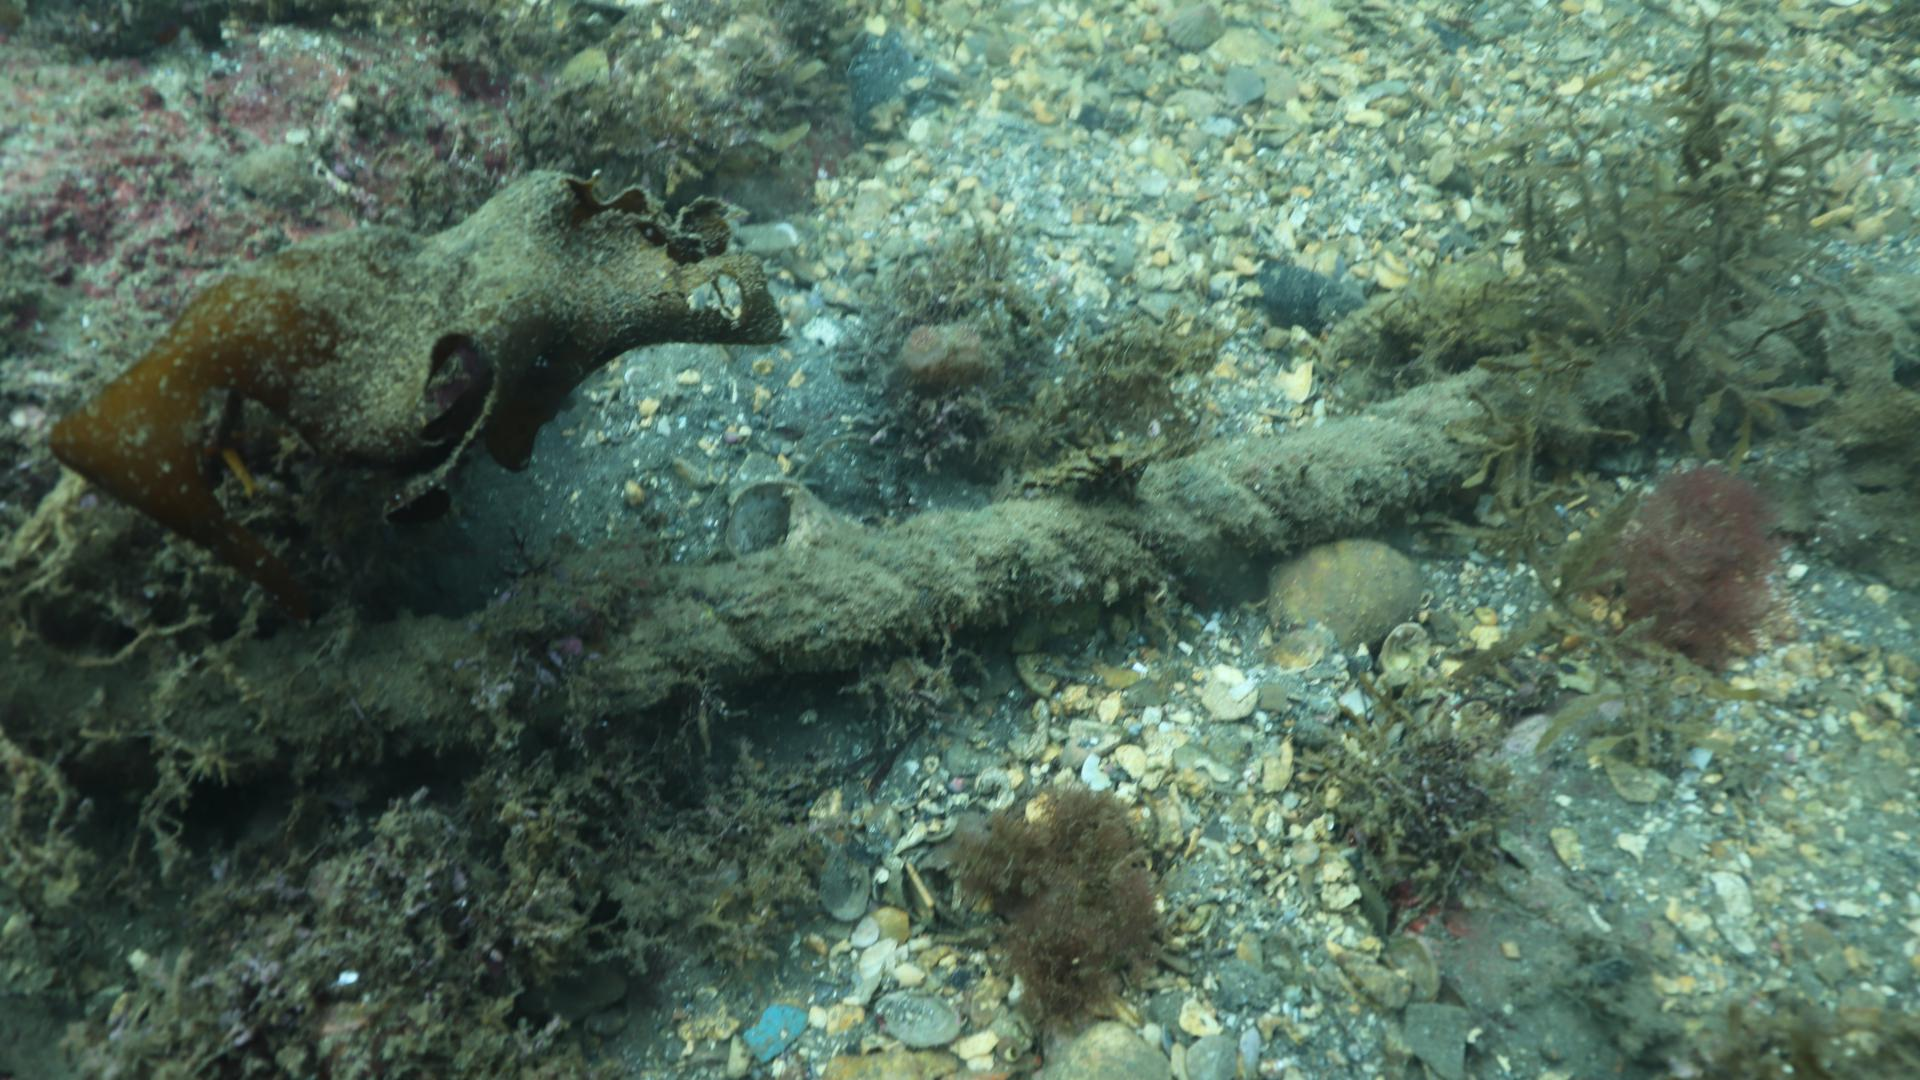rope: (0, 272, 1920, 793)
